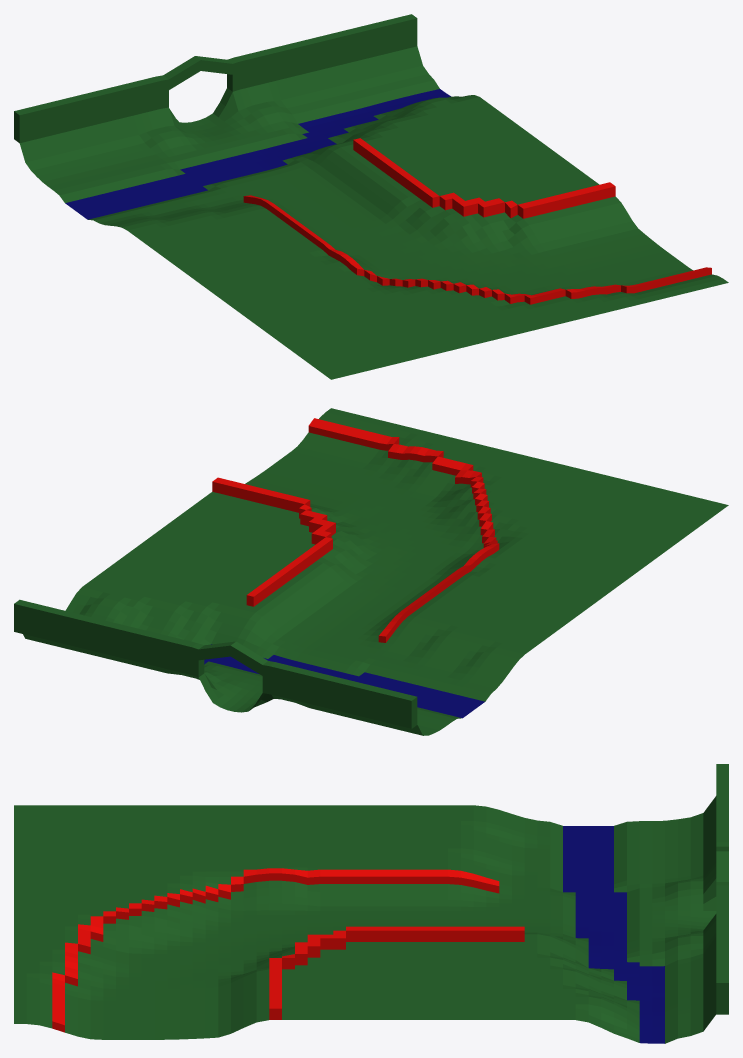
The picture shows the model from 3 angles, top to bottom: view 1: azimuth 30°, elevation 25°; view 2: azimuth 150°, elevation 25°; view 3: azimuth 270°, elevation 25°; orthographic projection. The views are drawn at different scales.
Visible parts, largest first — view 1: Ground; view 2: Ground; view 3: Ground.
Boxes of the visible parts, x1,y1,x2,y2 form: Ground: (14, 14, 728, 379); Ground: (14, 408, 728, 735); Ground: (14, 764, 728, 1043).
Size of what is drawn, in the model's own units: 72.76 by 11.51 by 100.
